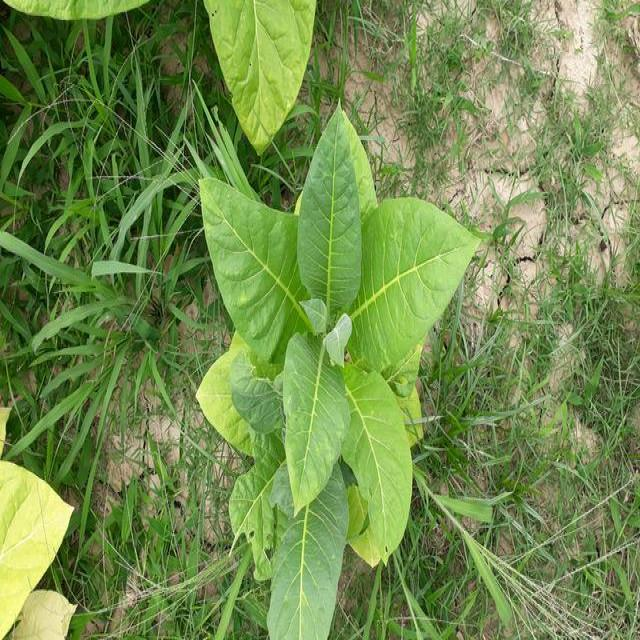crop: (198, 111, 475, 640), (0, 411, 73, 640), (202, 0, 322, 139)
